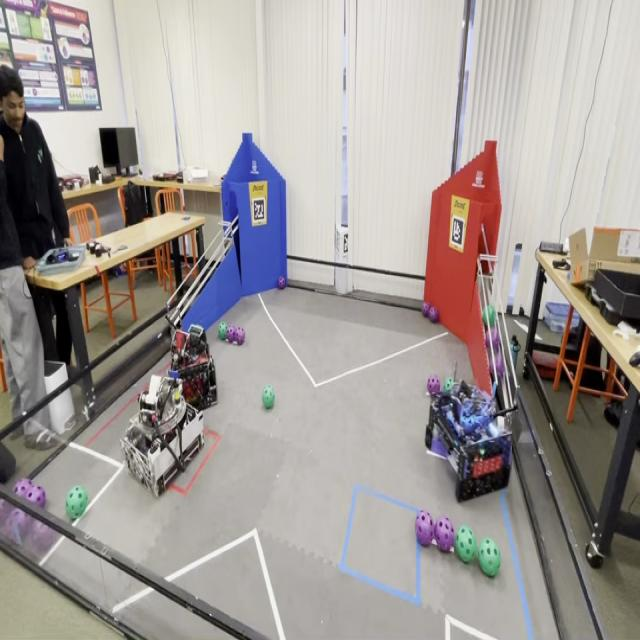artifact_green: (478, 539, 501, 577), (455, 527, 477, 562), (66, 486, 87, 520), (262, 384, 275, 410), (482, 305, 496, 328), (443, 377, 454, 393), (218, 323, 227, 340)
artifact_purple: (4, 509, 30, 545), (29, 521, 56, 552), (435, 517, 454, 552), (416, 510, 434, 546), (26, 485, 45, 508), (488, 354, 505, 378), (0, 499, 12, 530), (14, 478, 33, 497), (486, 328, 499, 350), (0, 499, 11, 523), (428, 375, 441, 395), (428, 306, 439, 323), (236, 328, 245, 344), (227, 325, 235, 343), (422, 302, 430, 317), (278, 277, 286, 291)
